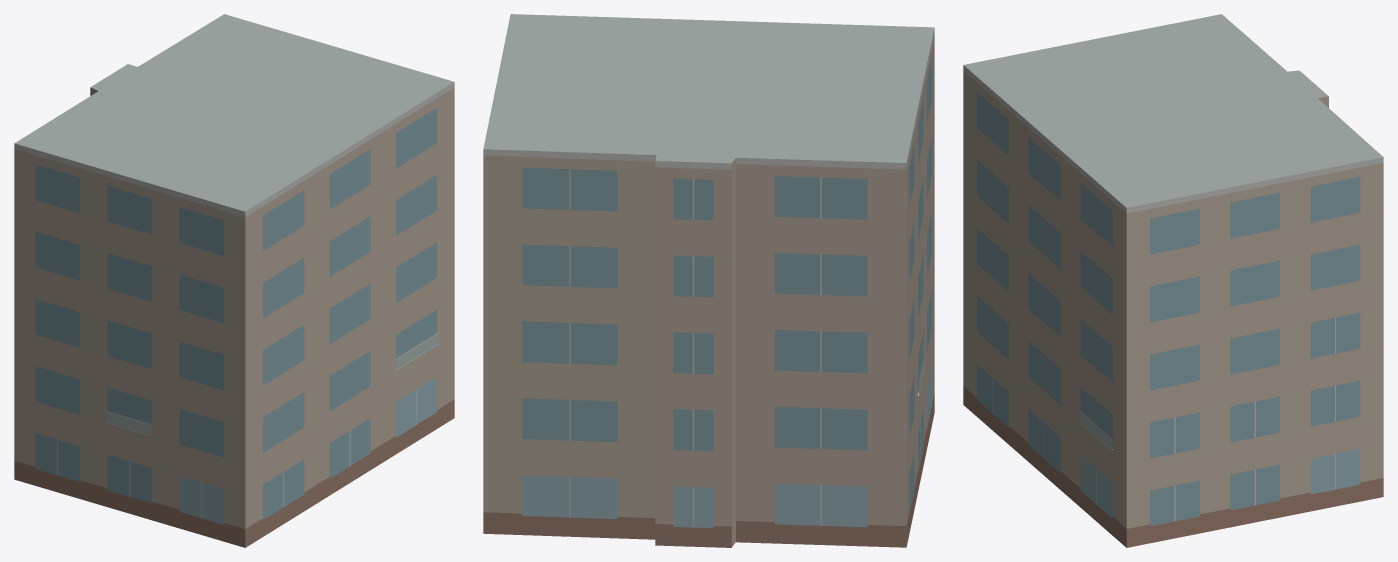
The model's file is survey-upis-32997385.glb.
The picture shows the model from 3 angles, left to right: view 1: azimuth 30°, elevation 25°; view 2: azimuth 150°, elevation 25°; view 3: azimuth 270°, elevation 25°; orthographic projection. The views are drawn at different scales.
Visible parts, largest first — view 1: survey-upis-32997385.tmp; view 2: survey-upis-32997385.tmp; view 3: survey-upis-32997385.tmp.
Part boxes in pixels (x1,y1,x2,y2): survey-upis-32997385.tmp: (14,14,454,547); survey-upis-32997385.tmp: (483,14,934,547); survey-upis-32997385.tmp: (963,14,1383,547).
Bounding box in the file's own units: 18 × 14.7 × 16.48.
